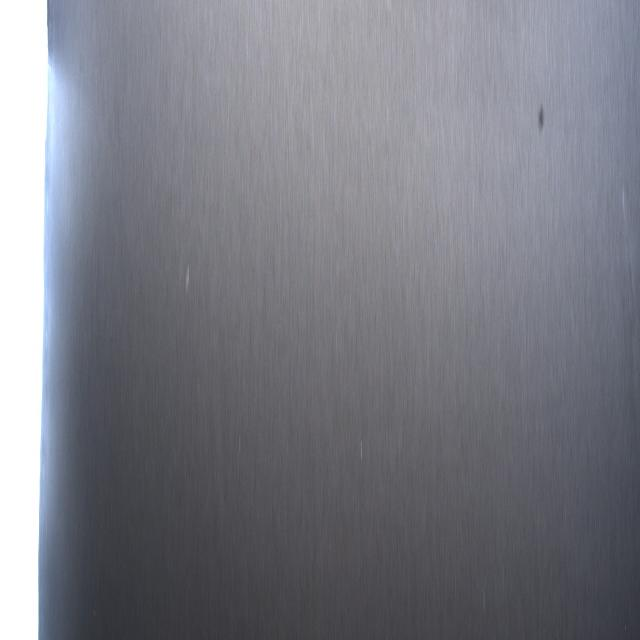whiteDefect: (185, 262, 191, 295), (359, 435, 363, 464), (483, 584, 485, 611)
